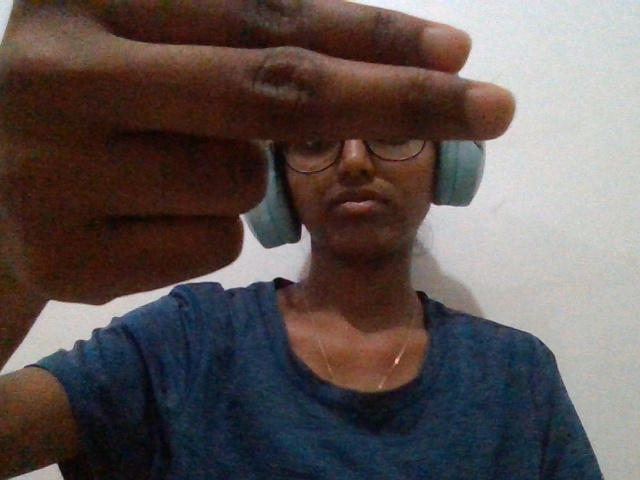H: (8, 1, 564, 348)
